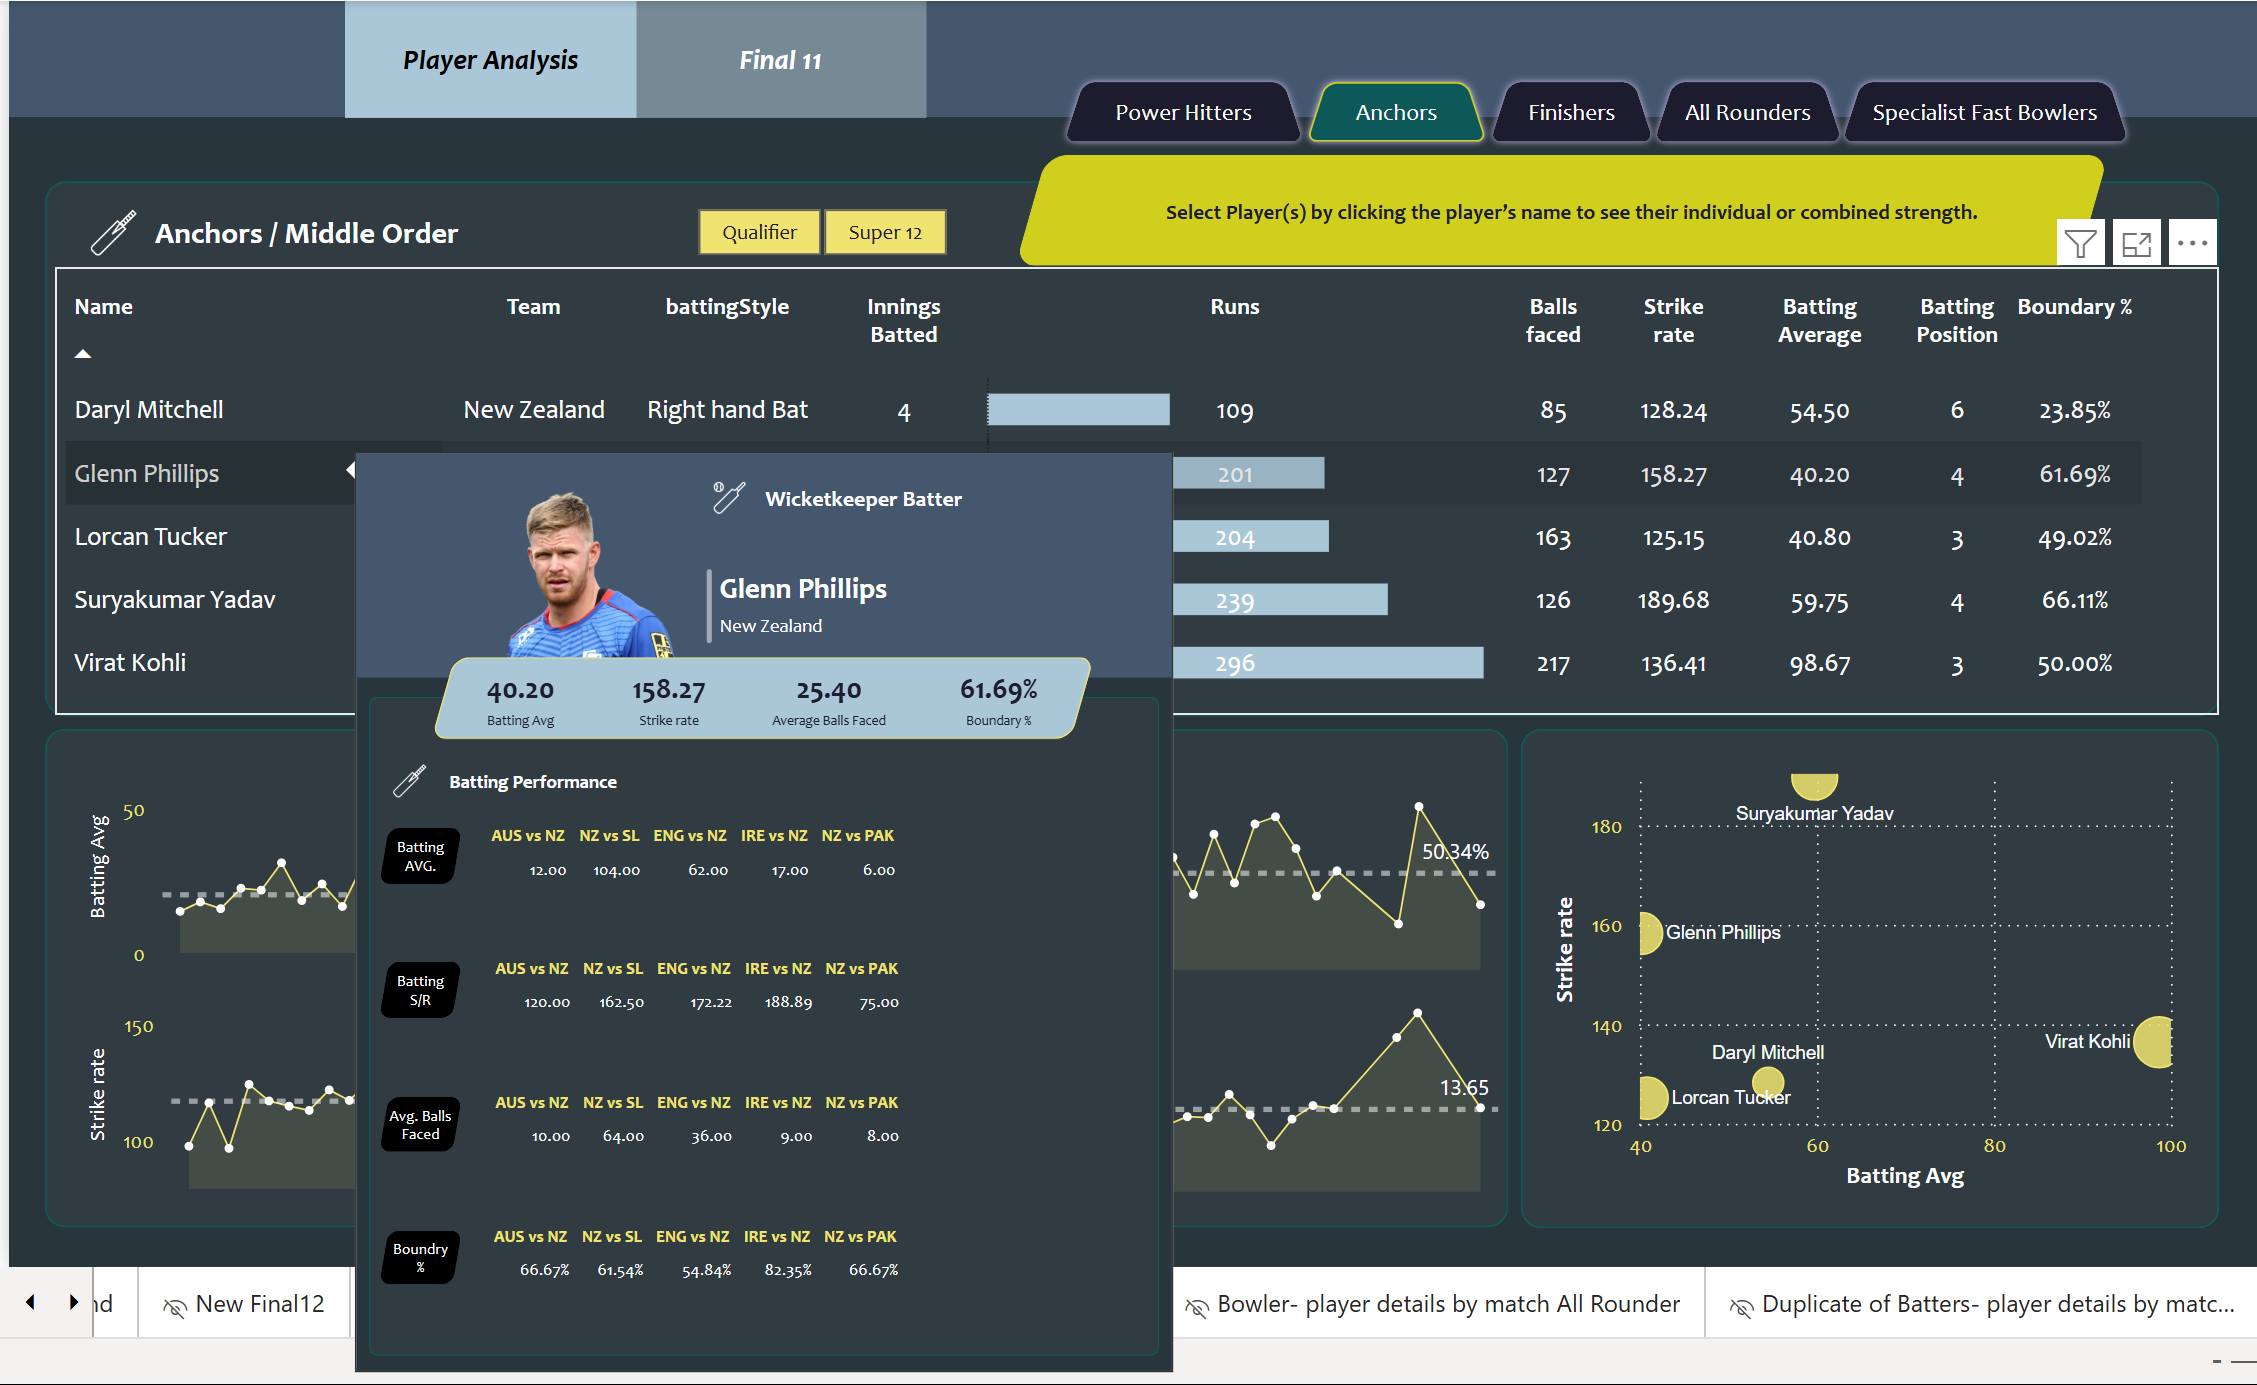

Layout of this report page (visuals, bound fields, positions):
{"tool":"powerbi","page":{"name":"New Final12","canvas":[1280,720],"ordinal":5},"visuals":[{"type":"shape","box":[0,66,1280,654],"z":0},{"type":"shape","box":[210.7,75.5,1063.4,632.2],"z":1000},{"type":"shape","box":[7,122.9,196,585.1],"z":1000,"group":"g1"},{"type":"actionButton","title":"Button Player Ana selected","box":[283.6,0,165.8,66.6],"z":2000},{"type":"actionButton","title":"Button Player Ana selected","box":[120.9,0,164.3,65.1],"z":3000},{"type":"group","id":"g1","title":"Group 1","box":[7,122.9,196,585.1],"z":4000},{"type":"shape","box":[19.6,104.9,171.5,30.4],"z":5000},{"type":"pivotTable","fields":{"Values":["Min(dim_player.team)","Min(dim_player.Batting Style)","Min(dim_player.Playing Role)","Min(dim_player.Bowling Style)","Key_Measures.Bat Avg","Key_Measures.Strike rate","Key_Measures.Economy","Key_Measures.Bowling Strike Rate","Key_Measures.Bowling Average","Sum(dim_player.Custom Batting Order)"],"Rows":["dim_player.name","dim_player.image"]},"box":[219.9,85.4,1048,501.1],"z":6000},{"type":"shape","box":[219.9,618.4,999.7,63],"z":7000},{"type":"card","fields":{"Values":["Key_Measures.Strike rate"]},"box":[548.4,620.2,93,60],"z":8000},{"type":"card","fields":{"Values":["Key_Measures.Avergate Balls Faced"]},"box":[657.3,621.9,109.5,56.9],"z":9000},{"type":"card","fields":{"Values":["Key_Measures.Bat Avg"]},"box":[449.4,620.2,92,60],"z":10000},{"type":"slicer","fields":{"Values":["dim_player.name"]},"box":[19.7,149.3,170.5,558.7],"z":11000,"group":"g1"},{"type":"card","fields":{"Values":["Key_Measures.Bowling Strike Rate"]},"box":[907.4,618.4,92.3,60.4],"z":11000},{"type":"card","fields":{"Values":["Key_Measures.Economy"]},"box":[1012.6,618.4,100.9,60.4],"z":12000},{"type":"card","fields":{"Values":["Key_Measures.Dot ball %"]},"box":[1113.5,617.6,100.1,60.4],"z":13000},{"type":"card","fields":{"Values":["Key_Measures.Bowling Average"]},"box":[794.4,617.6,91.4,60.4],"z":14000},{"type":"shape","box":[251.8,632.1,172.5,34.3],"z":15000},{"type":"shape","box":[449.4,0,170.5,66.6],"z":16000}]}

Visuals, with their boxes on the page's 1280x720 design canvas (x1, y1, x2, y2). These are canvas units, not pixel positions in the 2257x1385 screenshot, which may show the page scaled, cropped or inside an application window:
shape: rect(0, 66, 1280, 720)
shape: rect(211, 76, 1274, 708)
shape: rect(7, 123, 203, 708)
"Button Player Ana selected" actionButton: rect(284, 0, 449, 67)
"Button Player Ana selected" actionButton: rect(121, 0, 285, 65)
"Group 1" group: rect(7, 123, 203, 708)
shape: rect(20, 105, 191, 135)
pivotTable - Min(dim_player.team) x Min(dim_player.Batting Style): rect(220, 85, 1268, 586)
shape: rect(220, 618, 1220, 681)
card - Key_Measures.Strike rate: rect(548, 620, 641, 680)
card - Key_Measures.Avergate Balls Faced: rect(657, 622, 767, 679)
card - Key_Measures.Bat Avg: rect(449, 620, 541, 680)
slicer - dim_player.name: rect(20, 149, 190, 708)
card - Key_Measures.Bowling Strike Rate: rect(907, 618, 1000, 679)
card - Key_Measures.Economy: rect(1013, 618, 1114, 679)
card - Key_Measures.Dot ball %: rect(1114, 618, 1214, 678)
card - Key_Measures.Bowling Average: rect(794, 618, 886, 678)
shape: rect(252, 632, 424, 666)
shape: rect(449, 0, 620, 67)
